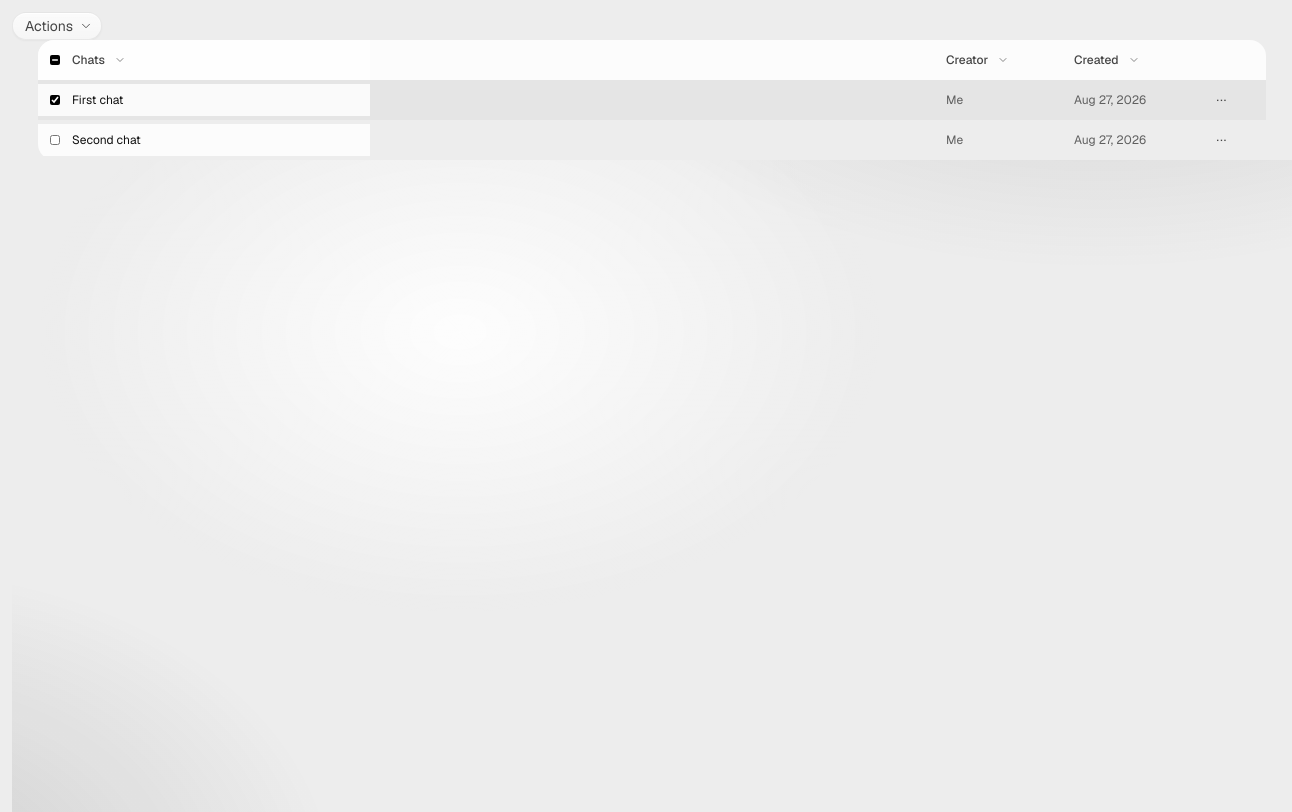
Test: ProjectAssistantTable row context actions › matches toolbar and right-click actions for 1 selected chats
Click the button "Actions". click: (57, 26)
box: x1=12 y1=12 x2=102 y2=40
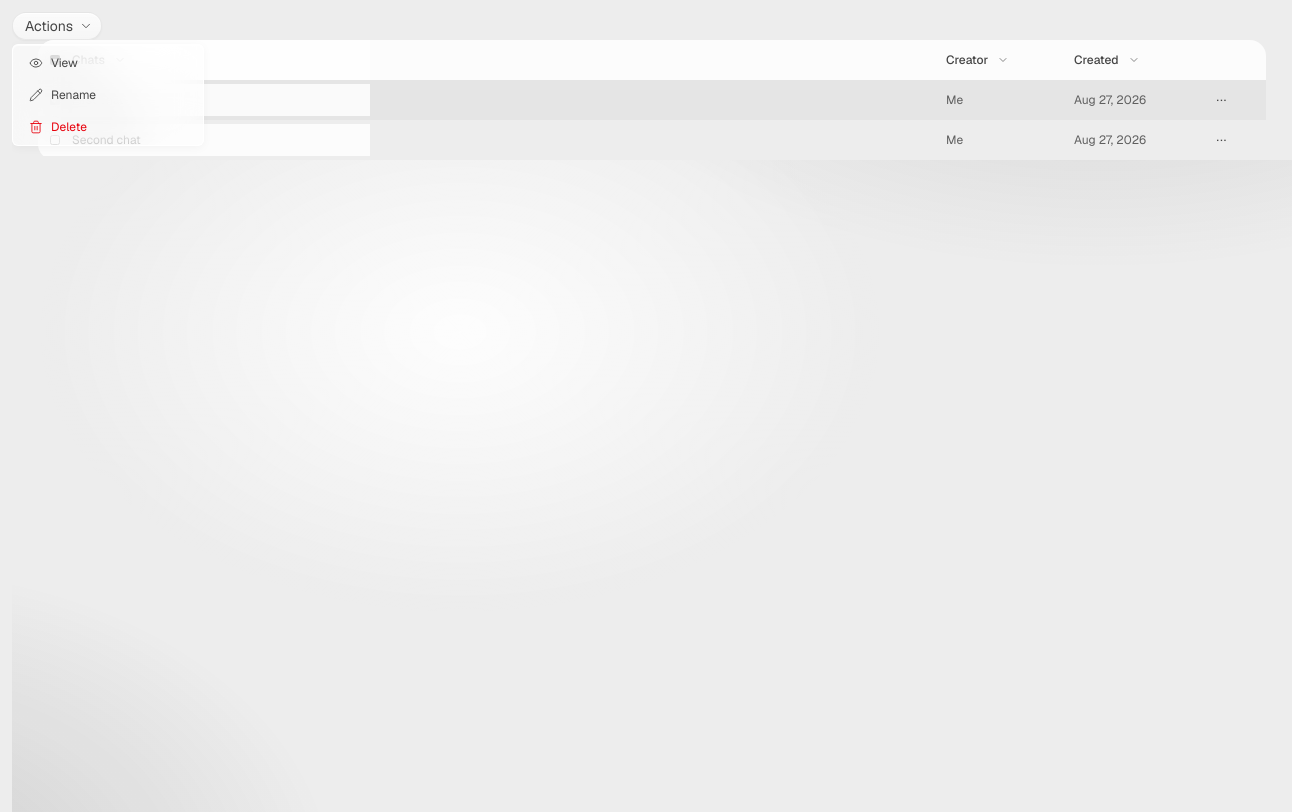
Expected: the menu items read "View", "Rename", "Delete", in this order, x1=29 y1=55 x2=78 y2=71; x1=29 y1=87 x2=96 y2=103; x1=29 y1=119 x2=87 y2=135
Press Escape
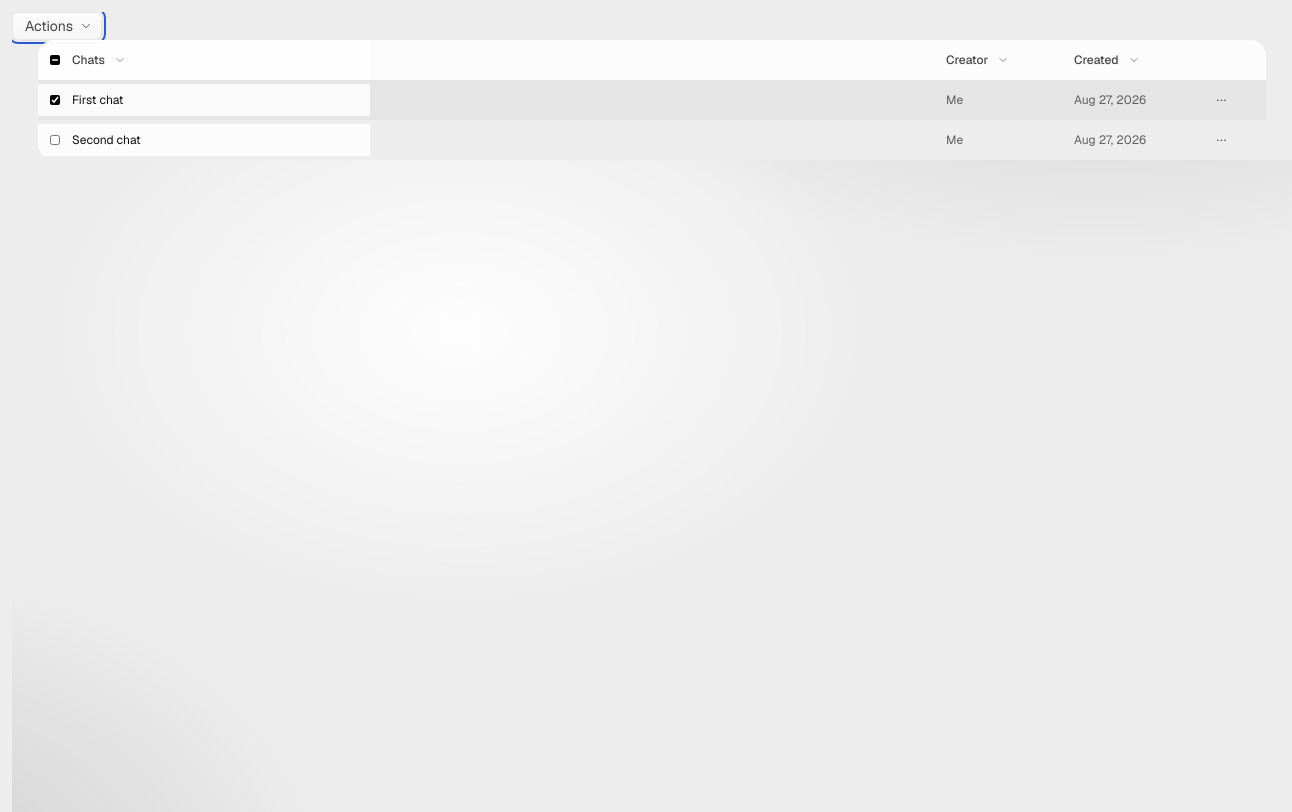
Right-click the text "First chat" at (98, 100), box x1=72 y1=92 x2=124 y2=108
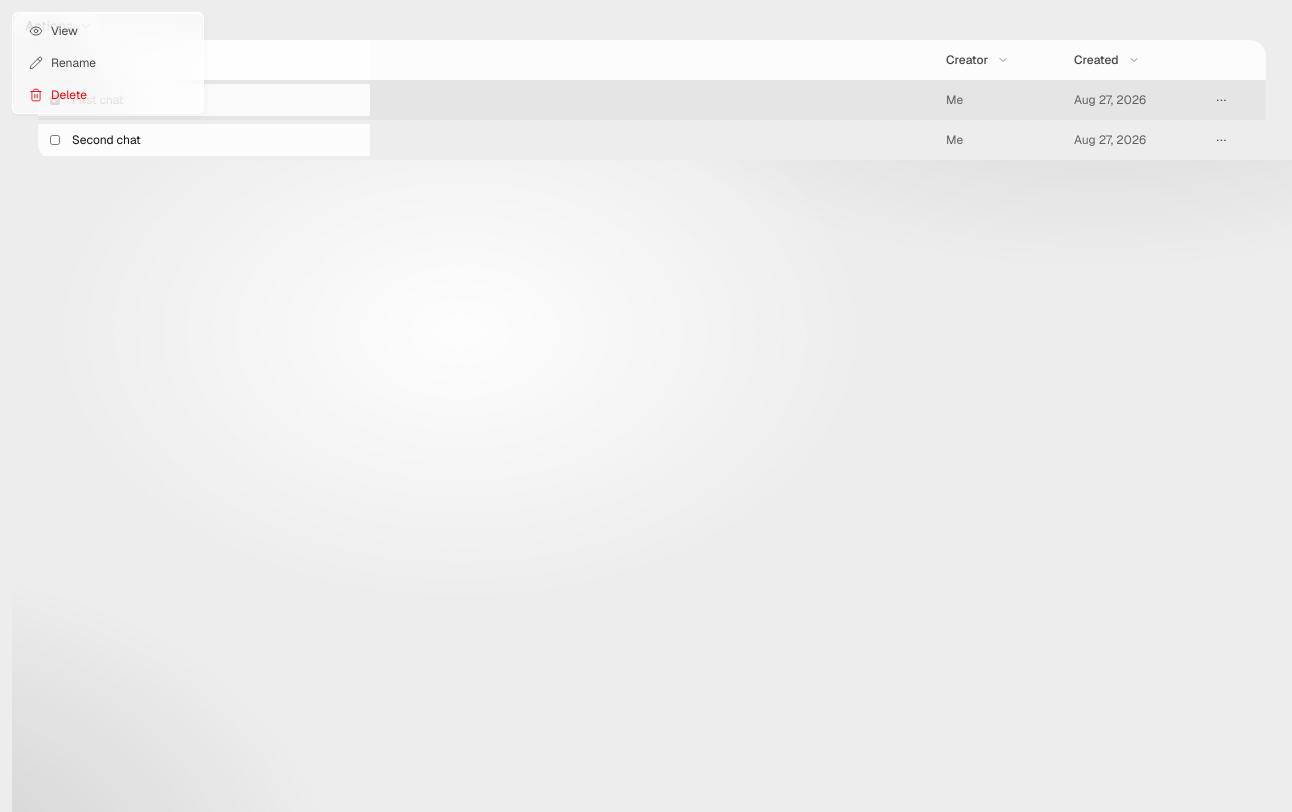
Expected: the menu items read "View", "Rename", "Delete", in this order, x1=29 y1=23 x2=78 y2=39; x1=29 y1=55 x2=96 y2=71; x1=29 y1=87 x2=87 y2=103
